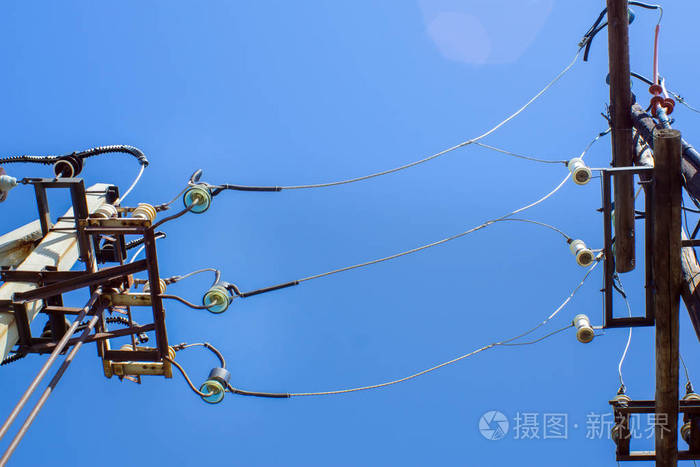insulator: (182, 182, 215, 215), (204, 282, 234, 314)
